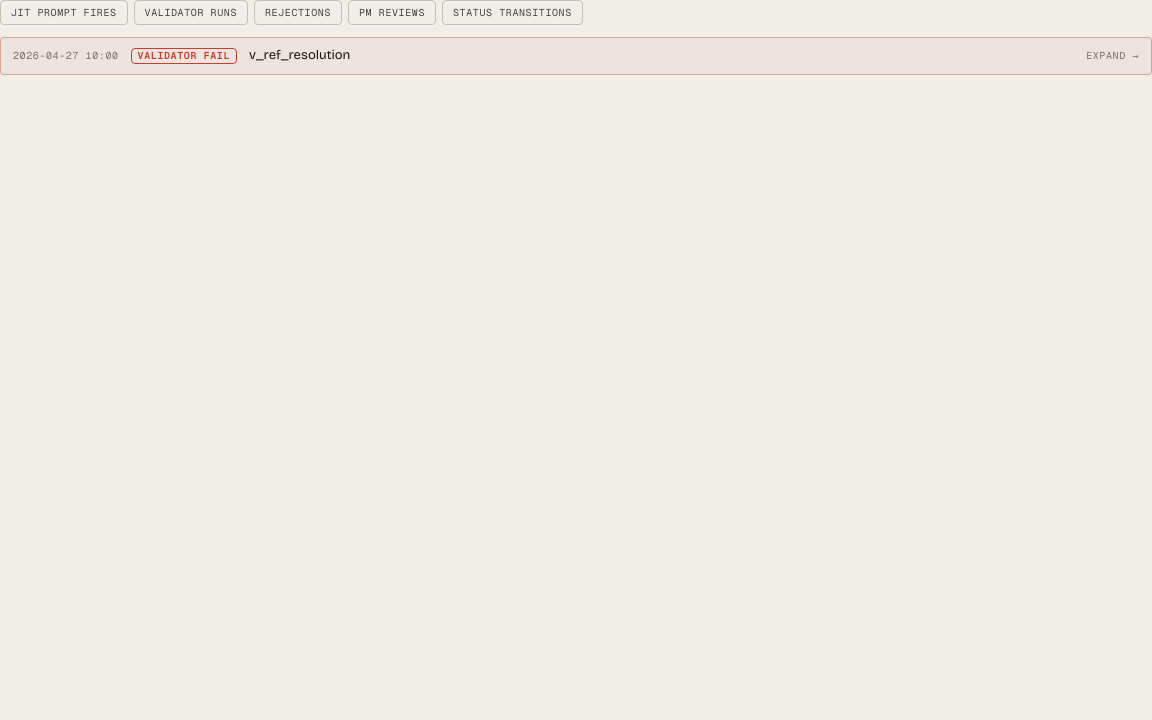
Test: SessionEventFeed › clicking 'expand →' on a row opens the EntityPreviewDrawer for that event
What coordinates should you click on to do the following:
click the button with aria-label "expand event e1"
I would click on:
 (1113, 56)
Its box is [1086,48,1139,63].
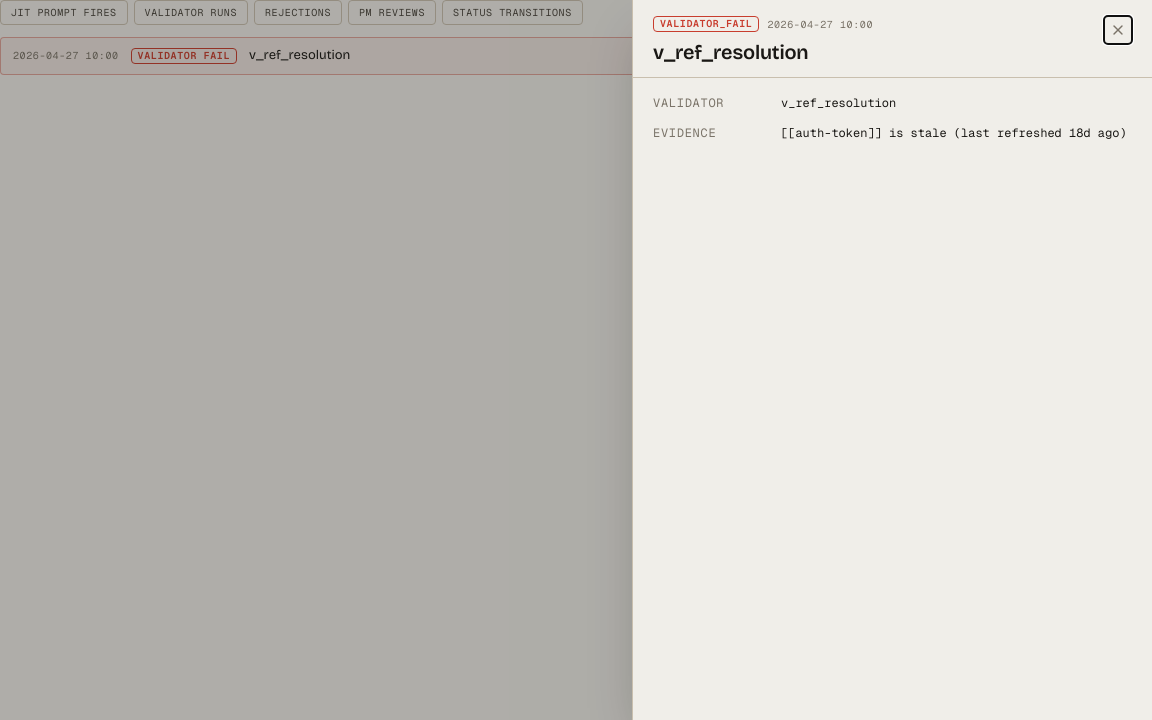
Result: the dialog is shown at [632,0,1151,719]
Result: the text "[ [auth-token]] is stale (last refreshed 18d ago)" is shown at [781,124,1132,142]
